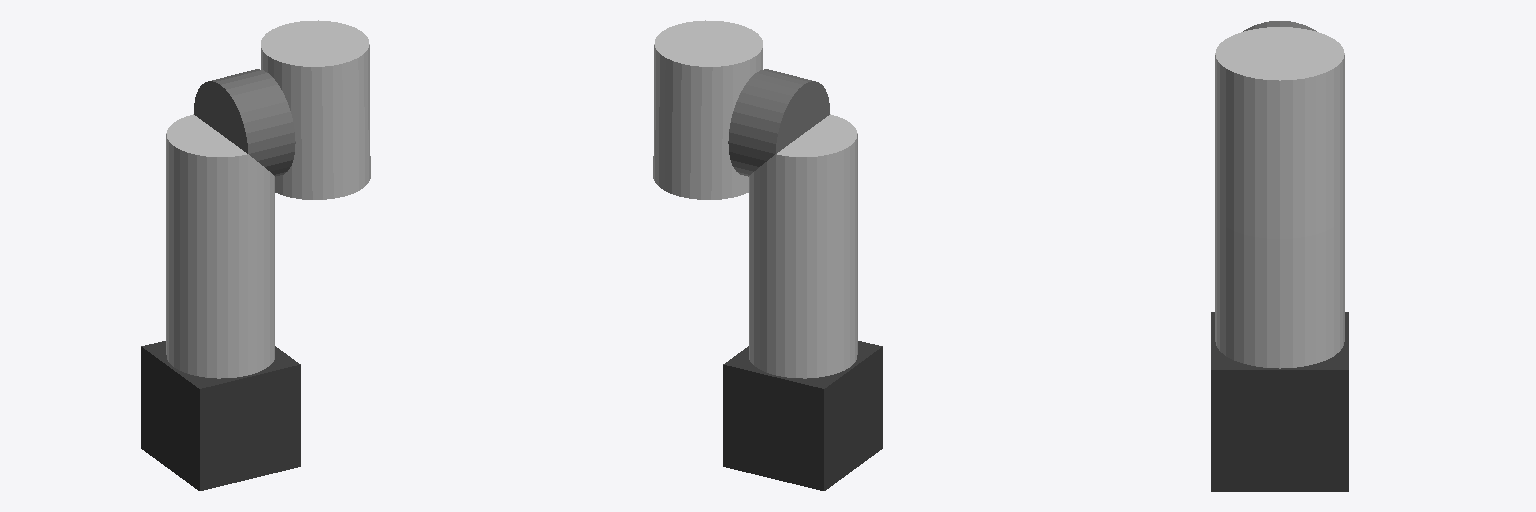
The robot description file, URDF, robot "vp6242":
<?xml version="1.0"?>
<robot name="vp6242">
	<!--
		J1   J2   J3   J4   J5   J6
		160  120  160  160  120  360
	   -160 -120   19 -160 -120 -360
	-->
	<link name="base_link">
    <visual>
      <geometry>
	<box size="0.160 0.160 0.155"/>
	</geometry>
	<origin xyz="0 0 0.0775"/>
	<material name="base_link">
        <color rgba="0.3 0.3 0.3 1"/>
      </material>
    </visual>
  </link>
	
  <link name="link0">
    <visual>
      <geometry>
        <cylinder length="0.125" radius="0.075"/>
      </geometry>
      <origin xyz="0 0 0.0625"/>
      <material name="link">
        <color rgba="0.8 0.8 0.8 1"/>
      </material>
    </visual>
  </link>

  <joint name="J1" type="revolute">
    <axis xyz="0 0 1"/>
    <limit effort="1000.0" lower="-2.792526" upper="2.792526" velocity="1.0"/>
    <origin rpy="0 0 0" xyz="0.0 0.0 0.155"/>
    <parent link="base_link"/>
    <child link="link0"/>
  </joint>

  <link name="link1">
    <visual>
      <geometry>
        <cylinder length="0.210" radius="0.075"/>
      </geometry>
      <origin xyz="0 0 0.105"/>
      <material name="link"/>
    </visual>
  </link>

  <joint name="J2" type="revolute">
    <axis xyz="0 1 0"/>
    <limit effort="1000.0" lower="-2.094394" upper="2.094394" velocity="1.0"/>
    <origin rpy="0 0 0" xyz="0.0 0.0 0.125"/>
    <parent link="link0"/>
    <child link="link1"/>
  </joint>
  
  <link name="link2">
    <visual>
      <geometry>
        <cylinder length="0.075" radius="0.075"/>
      </geometry>
	  <origin xyz="0 0 0.0375"/>
	  <material name="joint">
      <color rgba="0.5 0.5 0.5 1"/>
      </material>
    </visual>
  </link>
 	
 <joint name="J3" type="revolute">
    <axis xyz="0 1 0"/>
    <limit effort="1000.0" lower="0.331612" upper="2.792526" velocity="1.0"/>
    <origin rpy="0 0 0" xyz="0.0 0.0 0.210"/>
    <parent link="link1"/>
    <child link="link2"/>
  </joint>
	
  <link name="link3">
    <visual>
    <geometry>
      <cylinder length="0.202" radius="0.075"/>
    </geometry>
		<origin rpy="0 1.570796 0" xyz="0 0 0.075"/>
		<material name="link"/>
    </visual>
  </link>
  
  <joint name="JF1" type="fixed">
	<origin rpy="0 0 0" xyz="0.0 0.0 0.075"/>
    <parent link="link2"/>
    <child link="link3"/>
  </joint>

  <link name="link4">
    <visual>
      <geometry>
			  <box size="0.040 0.030 0.020"/>
			</geometry>
			<origin xyz="0 0 0.010"/>
			<material name="joint"/>
    </visual>
  </link>
 	
 	<joint name="J4" type="revolute">
    <axis xyz="0 1 0"/>
    <limit effort="1000.0" lower="-1.57075" upper="1.83259" velocity="1.0"/>
    <origin rpy="0 0 0" xyz="0.0 0.0 0.070"/>
    <parent link="link3"/>
    <child link="link4"/>
  </joint>
<!--  
  <link name="link5">
    <visual>
      <geometry>
			  <box size="0.050 0.030 0.068"/>
			</geometry>
			<origin xyz="0 0 0.034"/>
			<material name="link"/>
    </visual>
  </link>
  
  <joint name="J6" type="revolute">
    <axis xyz="0 0 1"/>
    <limit effort="1000.0" lower="-2.44346" upper="2.44346" velocity="1.0"/>
    <origin rpy="0 0 0" xyz="0.0 0.0 0.020"/>
    <parent link="link4"/>
    <child link="link5"/>
  </joint>

	<link name="link6">
    <visual>
      <geometry>
			  <box size="0.050 0.030 0.010"/>
			</geometry>
			<origin xyz="0 0 0.005"/>
			<material name="joint"/>
    </visual>
  </link>
	
	<joint name="J7" type="revolute">
		<axis xyz="0 0 1"/>
    <limit effort="1000.0" lower="-1.30899" upper="0.43633" velocity="1.0"/> 
    <origin rpy="0 0 0" xyz="0.0 0.0 0.068"/>
    <parent link="link5"/>
    <child link="link6"/>
  </joint>
-->
<!--	
  <link name="gripper_left">
    <visual>
      <geometry>
			  <box size="0.020 0.002 0.030"/>
			</geometry>
			<origin xyz="0 0 0.025"/>
			<material name="gripper">
				<color rgba="0.8 0.8 0.3 1"/>
			</material>
    </visual>
  </link>

	<joint name="J7_left" type="prismatic">
    <axis xyz="0 1 0"/>
    <limit effort="1000.0" lower="0.013" upper="0.0215" velocity="1.0"/>
    <origin rpy="0 0 0" xyz="0.0 0.0 0.0"/>
    <parent link="link6"/>
    <child link="gripper_left"/>
  </joint>
  
  <link name="gripper_right">
    <visual>
      <geometry>
			  <box size="0.020 0.002 0.030"/>
			</geometry>
			<origin xyz="0 0 0.025"/>
			<material name="gripper"/>
    </visual>
  </link>

	<joint name="J7_right" type="prismatic">
    <axis xyz="0 1 0"/>
    <limit effort="1000.0" lower="-0.013" upper="-0.0215" velocity="1.0"/>
    <origin rpy="0 0 0" xyz="0.0 0.0 0.0"/>
    <parent link="link6"/>
    <child link="gripper_right"/>
  </joint>
-->
</robot>

--- Render facts (derived) ---
Views: 3 orthographic renders of the robot side by side, from view 1: azimuth 30°, elevation 25°; view 2: azimuth 150°, elevation 25°; view 3: azimuth 270°, elevation 25°.
Model vp6242 with 6 links and 5 joints (4 revolute, 1 fixed), rooted at base_link, posed all joints at 0 but 1 set to mid-range because 0 is outside their limits (J3 = 1.56).
Visible links, largest first — view 1: base_link, link1, link3, link0, link2; view 2: base_link, link1, link3, link0, link2; view 3: link3, base_link, link0, link1.
Link boxes in pixels (box(x1,y1,x2,y2)): base_link: box(141, 341, 300, 490); link1: box(166, 114, 274, 295); link3: box(261, 20, 370, 199); link0: box(166, 273, 274, 378); link2: box(194, 69, 295, 176); base_link: box(723, 341, 882, 490); link1: box(749, 114, 857, 295); link3: box(653, 20, 762, 199); link0: box(749, 273, 857, 378); link2: box(728, 69, 829, 176); link3: box(1215, 27, 1344, 238); base_link: box(1211, 312, 1348, 491); link0: box(1215, 244, 1344, 368); link1: box(1215, 213, 1344, 270).
Bounding box of the posed robot: 0.3059 × 0.16 × 0.593 m (x, y, z).
Geometry: primitives only (box / cylinder / sphere), no mesh files.
